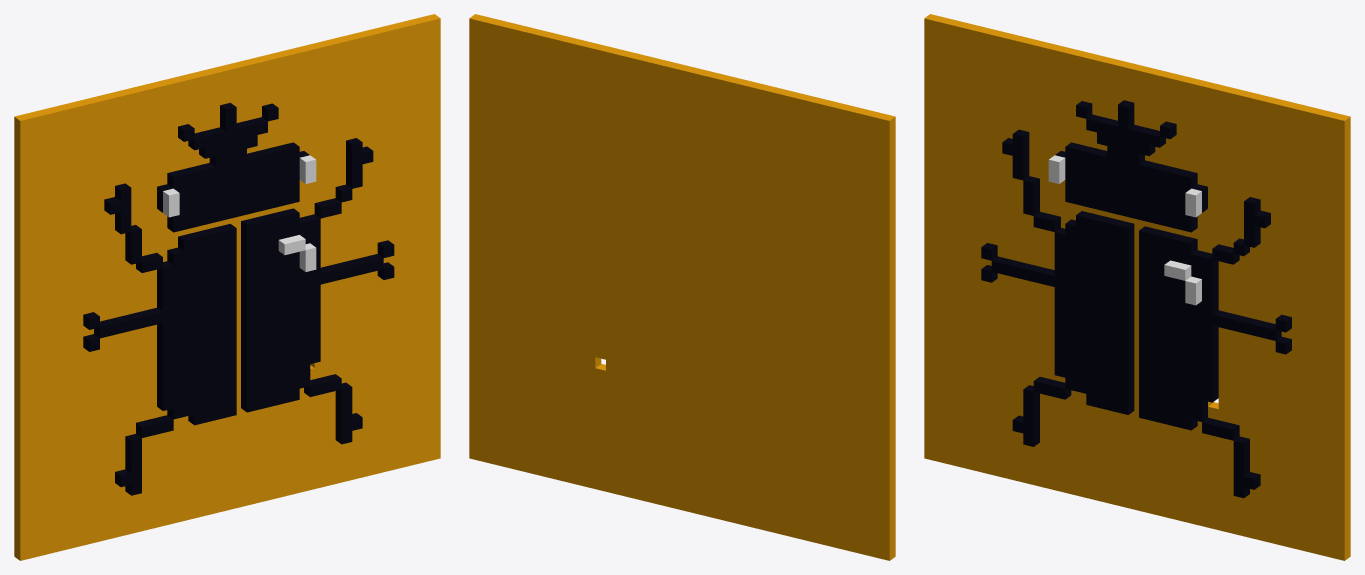
The model's file is beetle.obj.
3 views of the same model, side by side, from view 1: azimuth 30°, elevation 25°; view 2: azimuth 150°, elevation 25°; view 3: azimuth 330°, elevation 25° (orthographic).
Bounding box in the file's own units: 4 × 4 × 0.3.
Materials: 1 (1 with a texture image).
